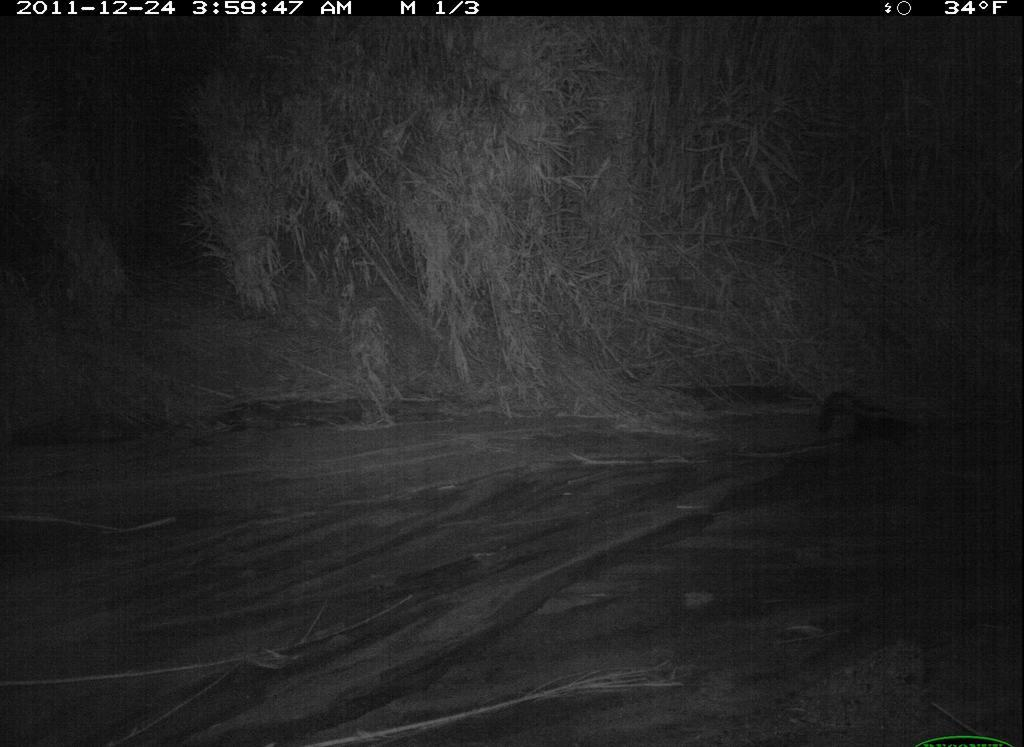skunk: (810, 382, 933, 457)
